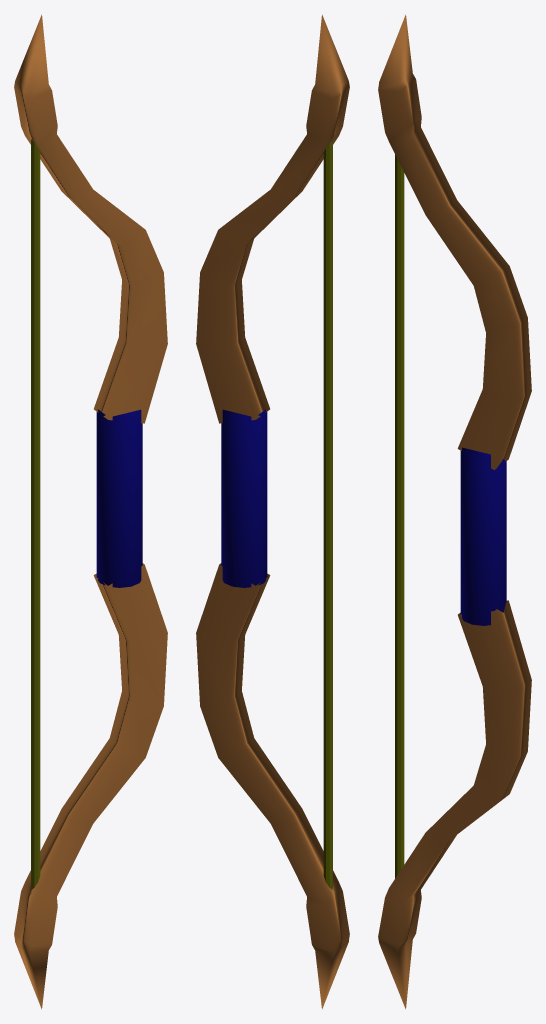
Rendered from default_bow.glb.
The picture shows the model from 3 angles, left to right: view 1: azimuth 30°, elevation 25°; view 2: azimuth 150°, elevation 25°; view 3: azimuth 330°, elevation 25°; orthographic projection.
Parts seen in each view (by area): view 1: Cube, Cube.001, Cylinder.001, Cylinder; view 2: Cube, Cube.001, Cylinder.001, Cylinder; view 3: Cube.001, Cube, Cylinder.001, Cylinder.
Boxes of the visible parts, left/top/right/bottom form: Cube: left=14, top=563, right=167, bottom=1009; Cube.001: left=14, top=14, right=167, bottom=423; Cylinder.001: left=96, top=409, right=142, bottom=587; Cylinder: left=31, top=139, right=40, bottom=889; Cube: left=196, top=563, right=349, bottom=1009; Cube.001: left=196, top=14, right=349, bottom=423; Cylinder.001: left=221, top=409, right=267, bottom=587; Cylinder: left=323, top=139, right=332, bottom=889; Cube.001: left=378, top=14, right=531, bottom=469; Cube: left=378, top=600, right=531, bottom=1009; Cylinder.001: left=460, top=447, right=506, bottom=625; Cylinder: left=395, top=154, right=404, bottom=878.
Size of the model in its own units: 0.8192 by 5.64 by 0.2355.
